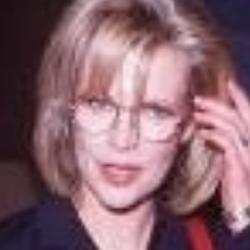face: (24, 2, 235, 220)
